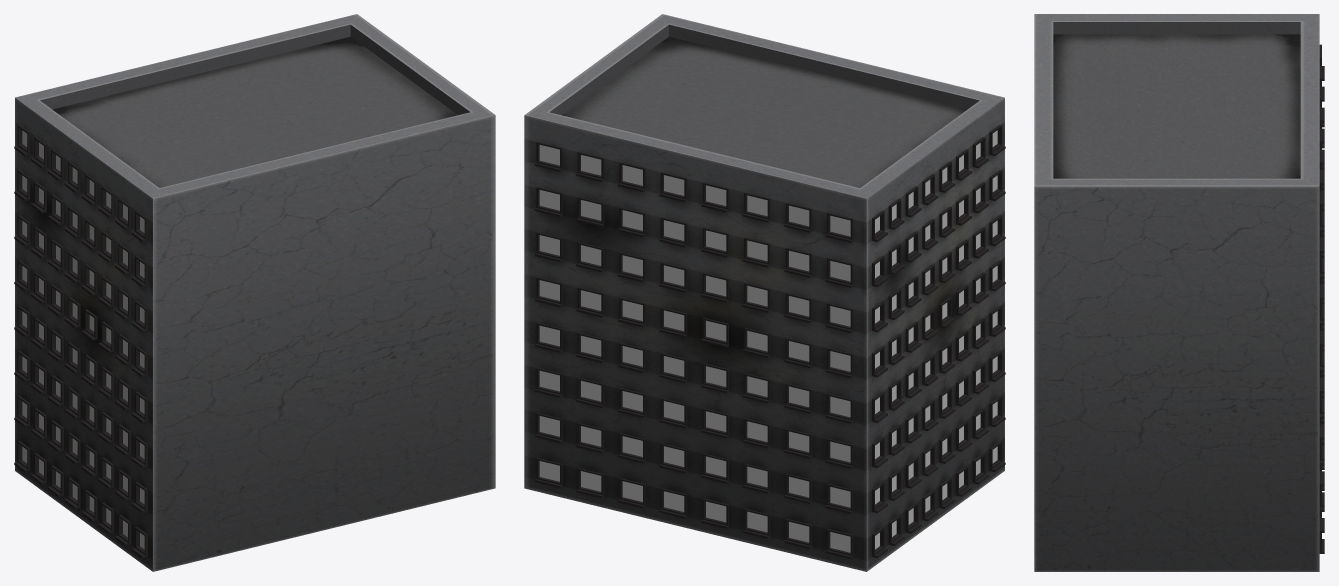
The model's file is Apocalypse_Skyscraper_level.fbx.
The picture shows the model from 3 angles, left to right: view 1: azimuth 30°, elevation 25°; view 2: azimuth 150°, elevation 25°; view 3: azimuth 270°, elevation 25°; orthographic projection. The views are drawn at different scales.
Parts seen in each view (by area): view 1: Apocalypse_Skyscraper_level; view 2: Apocalypse_Skyscraper_level; view 3: Apocalypse_Skyscraper_level.
Boxes of the visible parts, x1,y1,x2,y2 form: Apocalypse_Skyscraper_level: (14,14,495,571); Apocalypse_Skyscraper_level: (524,14,1005,571); Apocalypse_Skyscraper_level: (1034,14,1324,571).
Bounding box in the file's own units: 20.59 × 21.08 × 14.39.
